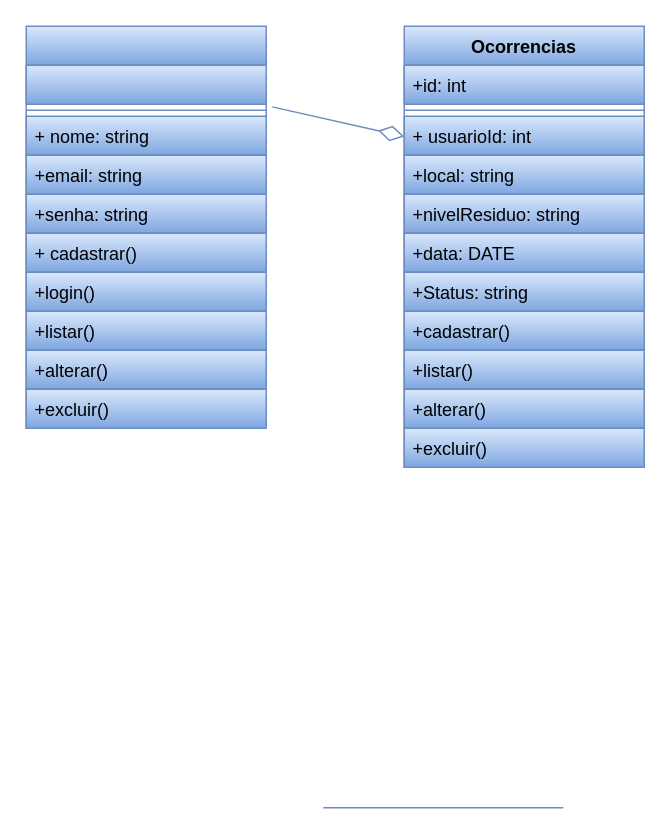
The diagram is 671 pixels wide and 840 high, and some of its shapes have lost their labels. Here are the shapes that lost their labels. From the top down, the box of each, then its label:
(25, 64, 266, 104): + id: int
(25, 25, 266, 428): Usuarios
